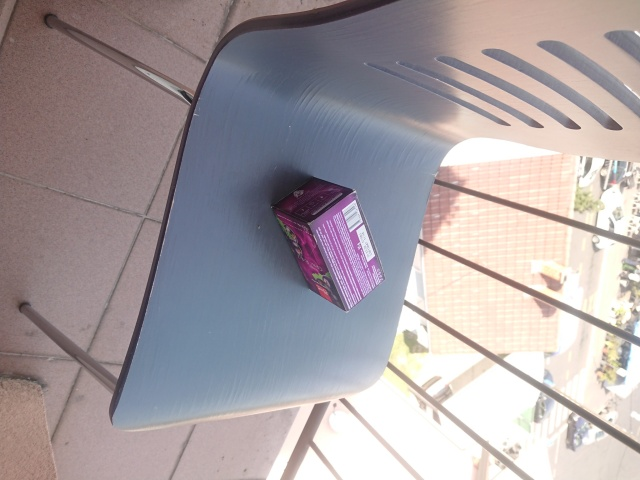Franck Black Currant Tea 60g: (269, 173, 388, 315)
